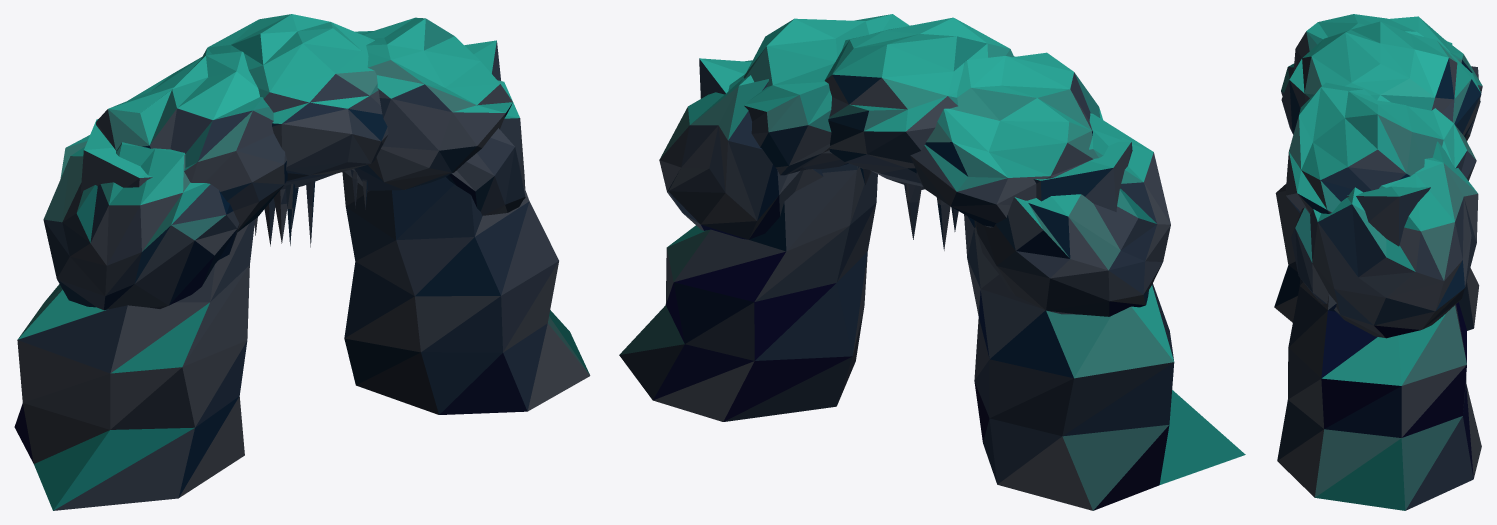
Rendered from batu_arch_basalt_951903.glb.
3 views of the same model, side by side, from view 1: azimuth 30°, elevation 25°; view 2: azimuth 150°, elevation 25°; view 3: azimuth 270°, elevation 25° (orthographic). The views are drawn at different scales.
Parts seen in each view (by area): view 1: Lengkungan_Gua_Batu; view 2: Lengkungan_Gua_Batu; view 3: Lengkungan_Gua_Batu.
Boxes of the visible parts, bbox=[...] form: Lengkungan_Gua_Batu: bbox=[14, 14, 590, 510]; Lengkungan_Gua_Batu: bbox=[619, 14, 1245, 510]; Lengkungan_Gua_Batu: bbox=[1274, 14, 1482, 510].
Size of the model in its own units: 11.09 by 7.18 by 3.9.
